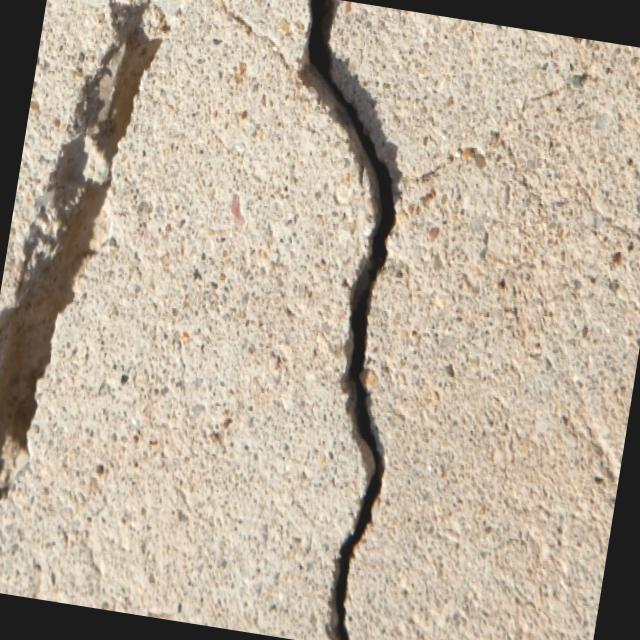crack: (202, 0, 461, 640)
spall: (0, 0, 192, 606)
